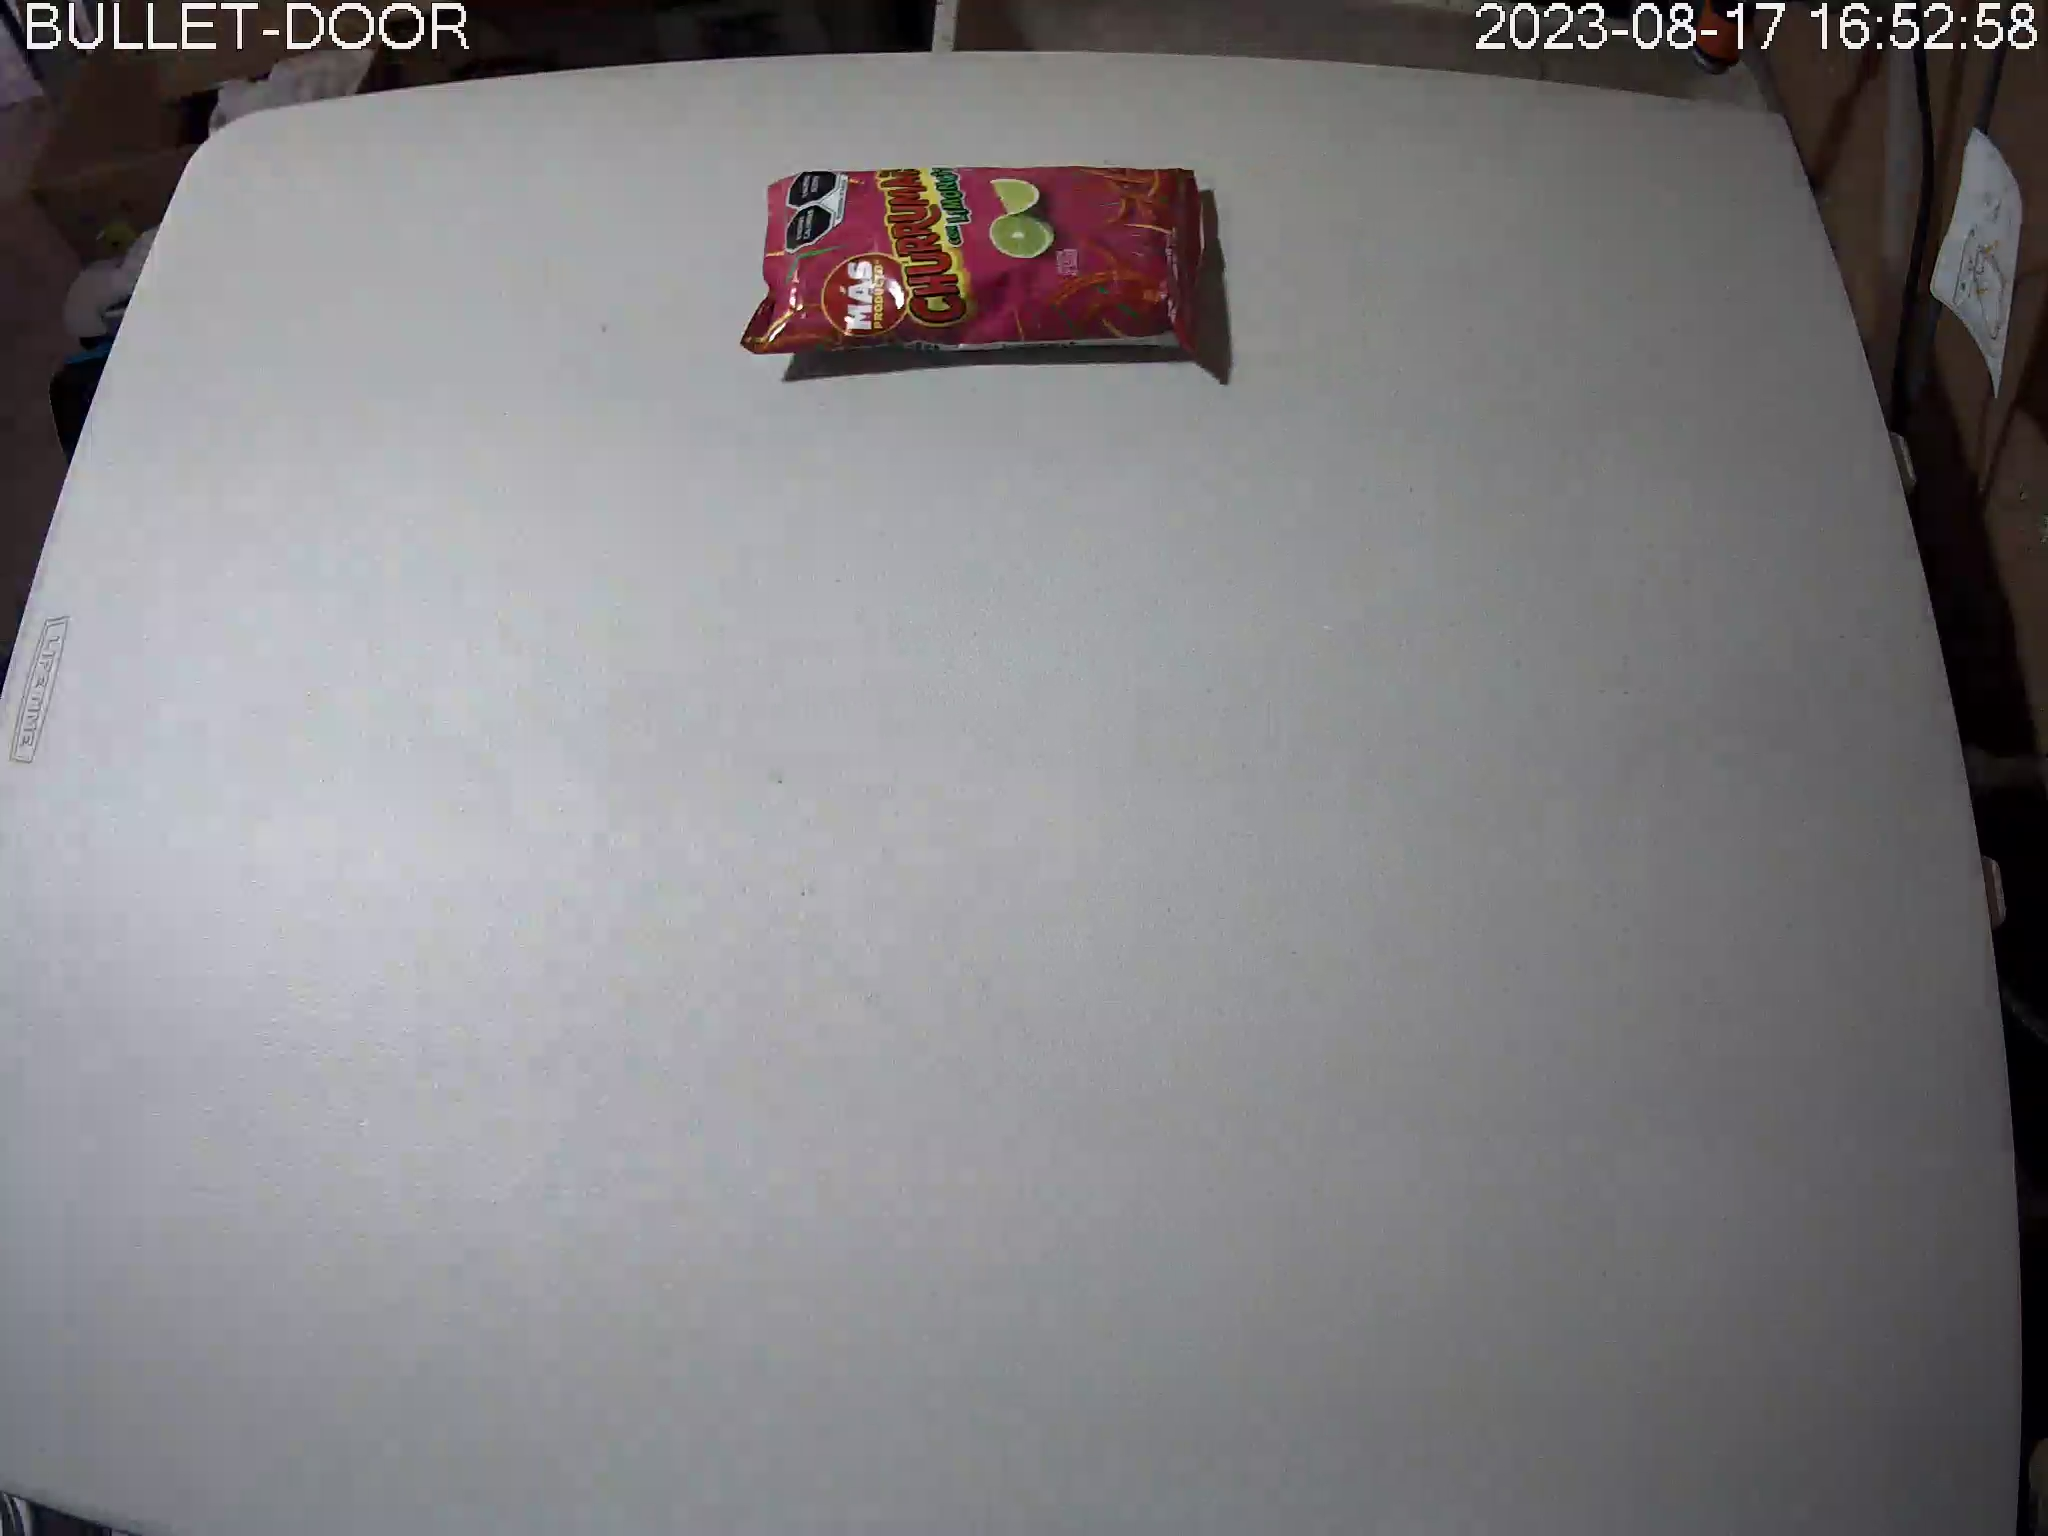Churrumais_70_F: (739, 165, 1206, 373)
